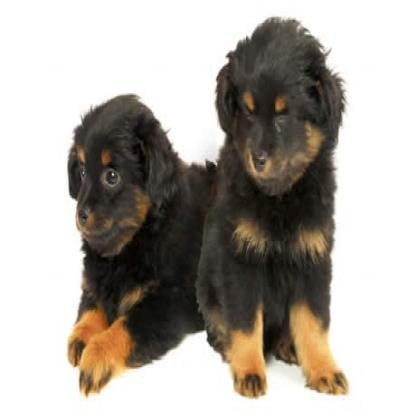Yorkipoo: (208, 13, 347, 404), (58, 86, 186, 388)
